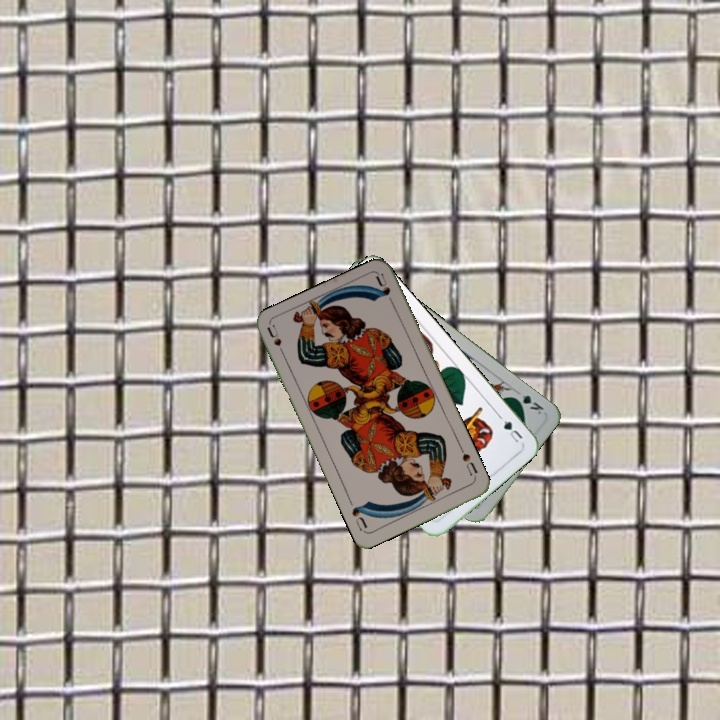GK: (509, 391, 546, 417)
GU: (499, 416, 525, 445)
SU: (264, 322, 289, 362), (456, 443, 480, 481)
